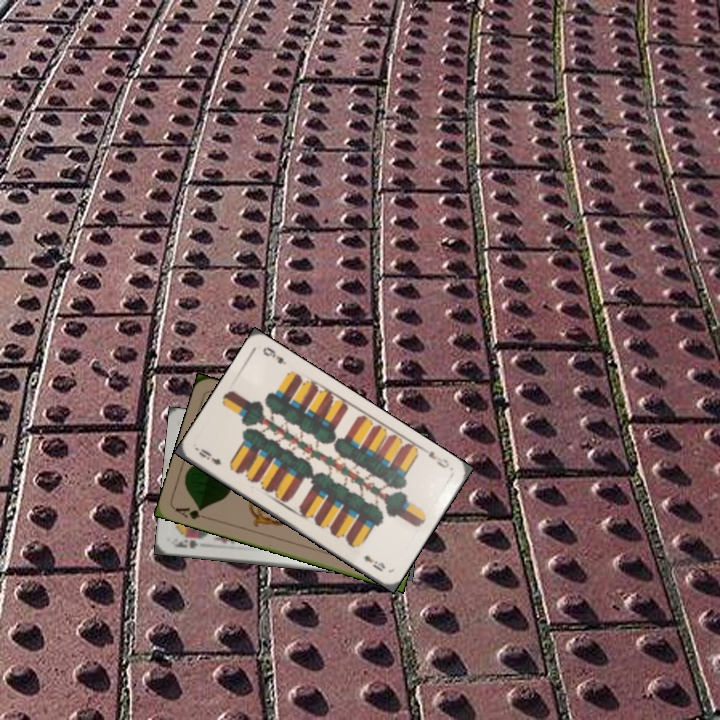E9: (418, 445, 452, 471), (194, 444, 224, 468)
GA: (171, 503, 211, 522)
SK: (169, 533, 206, 551)
